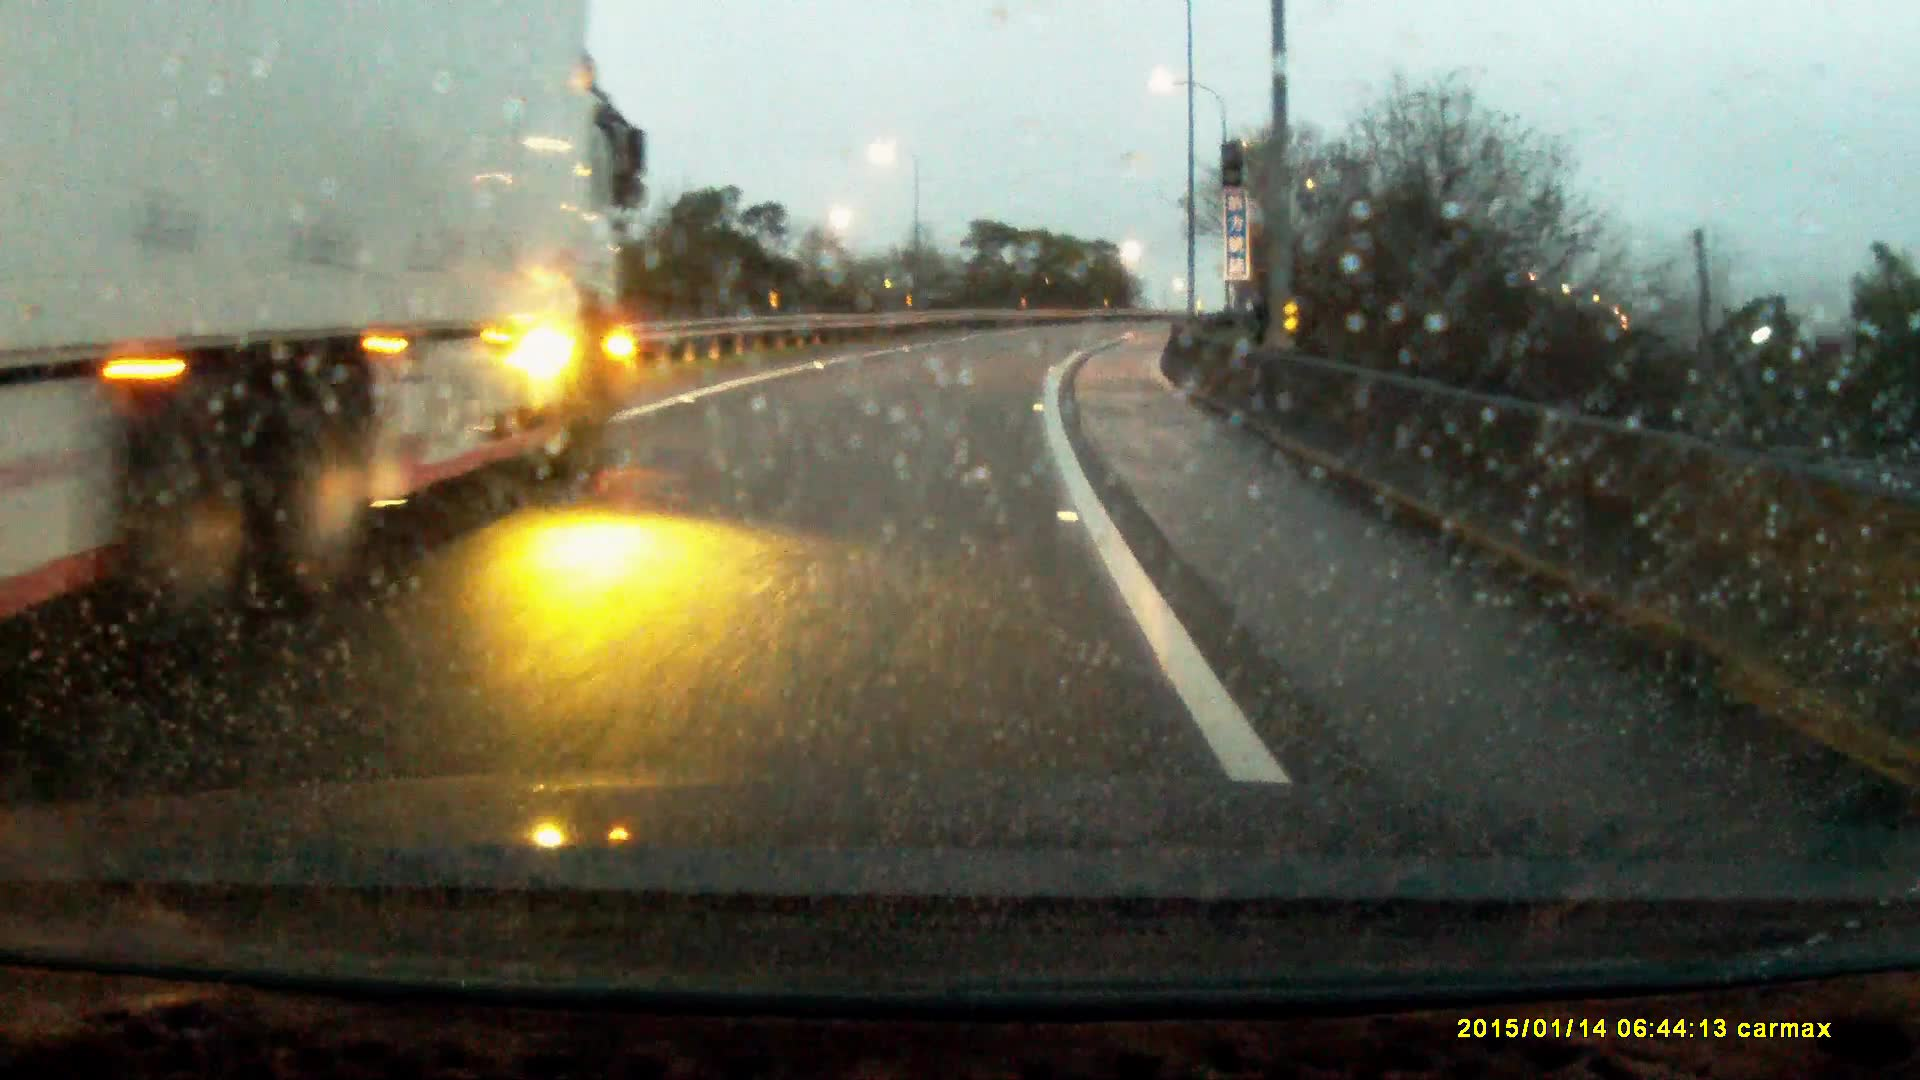vehicle: (1, 1, 649, 632)
